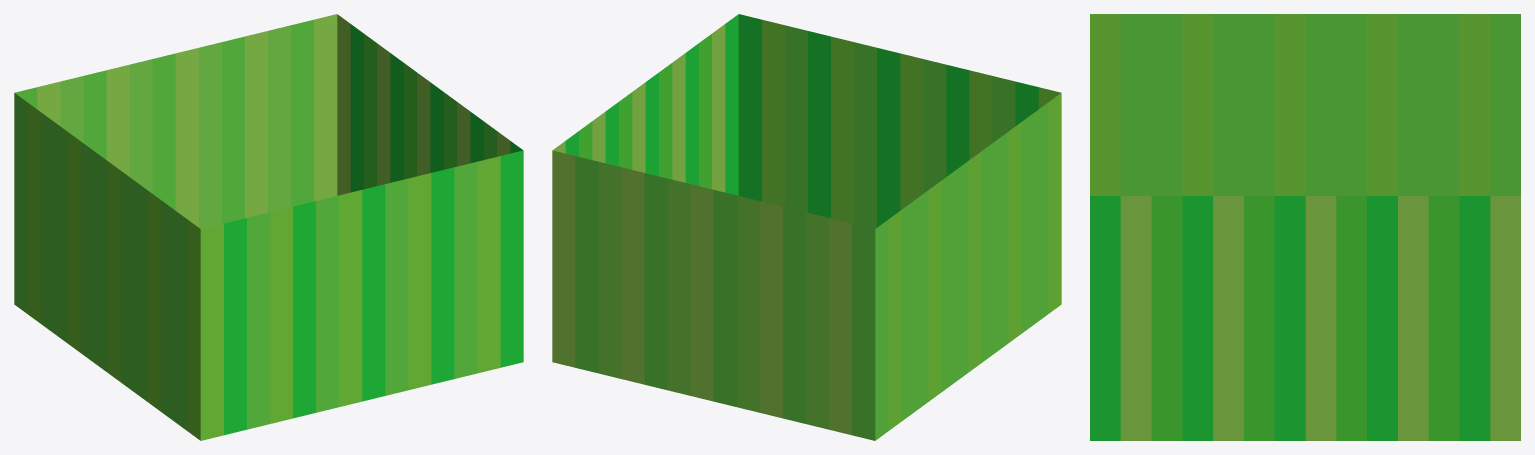
Rendered from Portal.glb.
3 views of the same model, side by side, from view 1: azimuth 30°, elevation 25°; view 2: azimuth 150°, elevation 25°; view 3: azimuth 270°, elevation 25° (orthographic). The views are drawn at different scales.
Parts seen in each view (by area): view 1: Plane; view 2: Plane; view 3: Plane.
Boxes of the visible parts, box(x1,y1,x2,y2) form: Plane: box(14, 14, 523, 440); Plane: box(552, 14, 1061, 440); Plane: box(1090, 14, 1520, 440).
Bounding box in the file's own units: 375 × 235 × 375.
